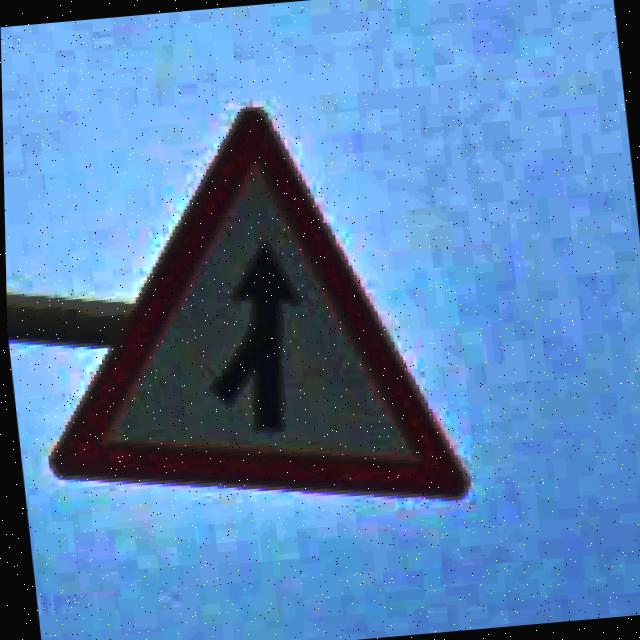leftmerge: (47, 108, 467, 498)
